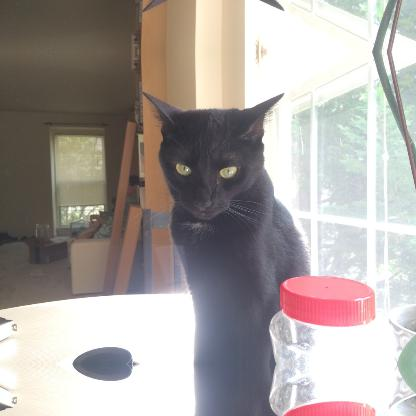Cat: (141, 93, 311, 364)
